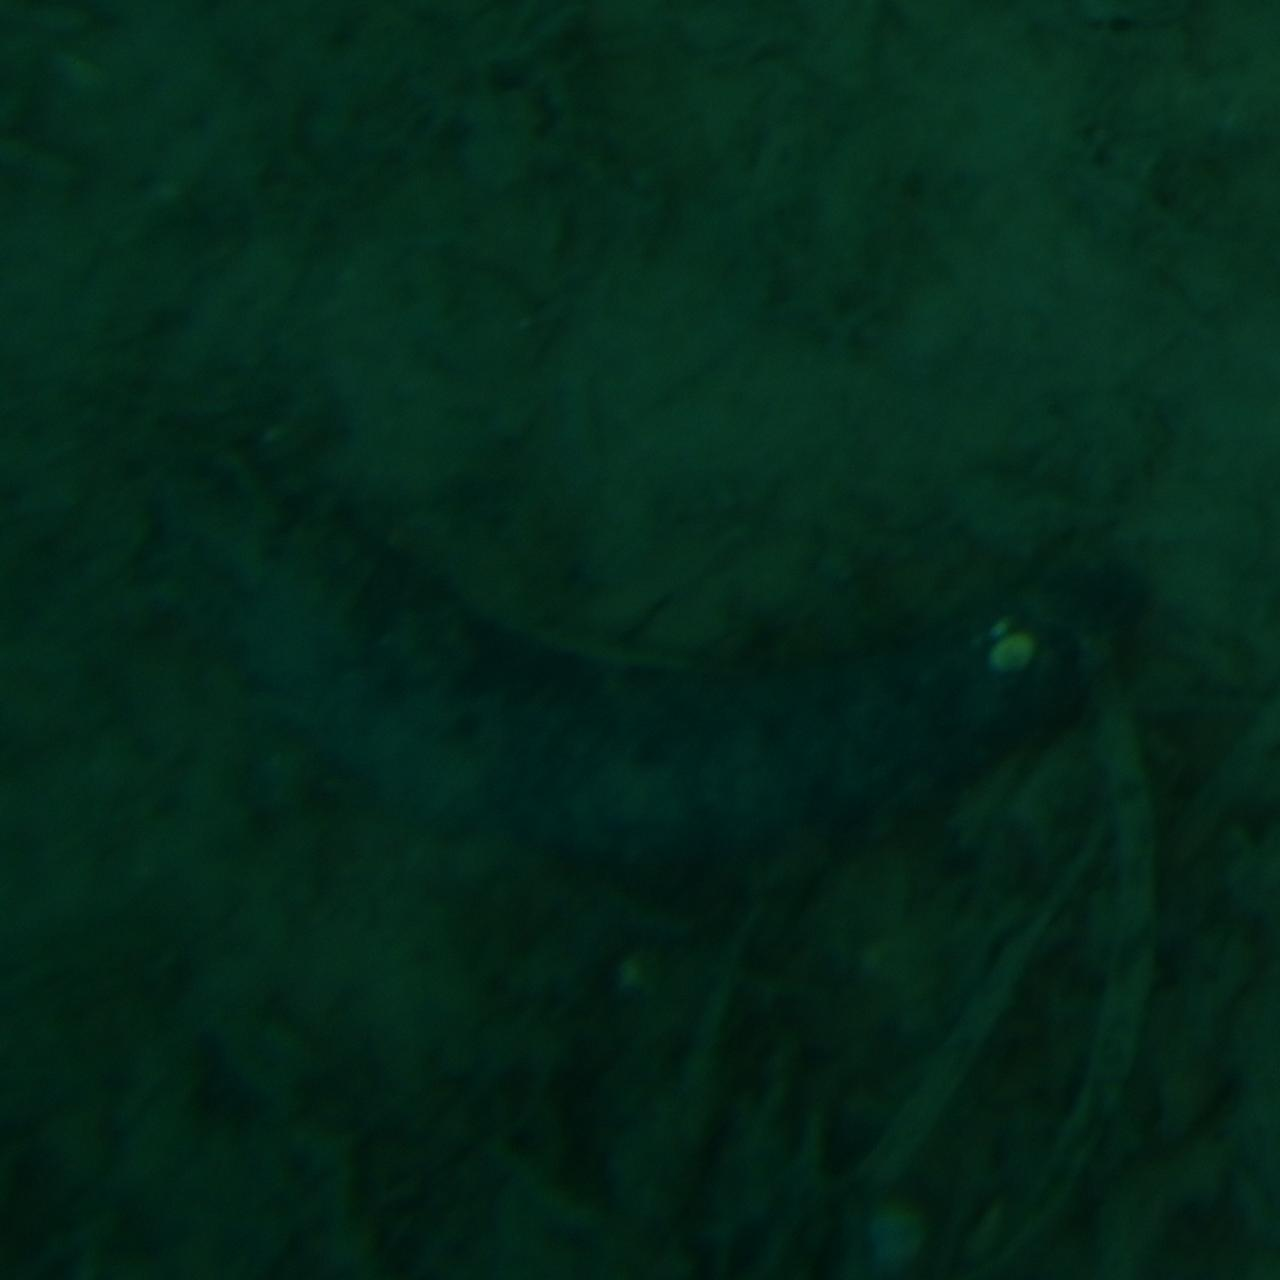Holothuria tubulosa: (130, 415, 1150, 886)
